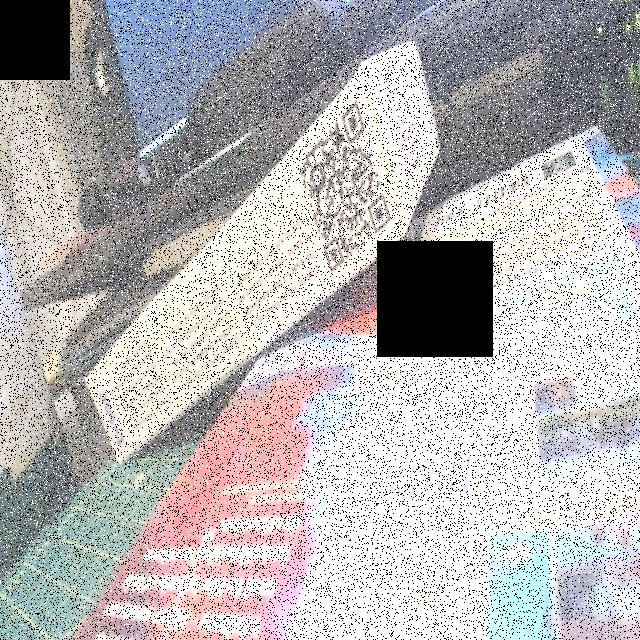QR_CODE: (292, 89, 406, 279)
